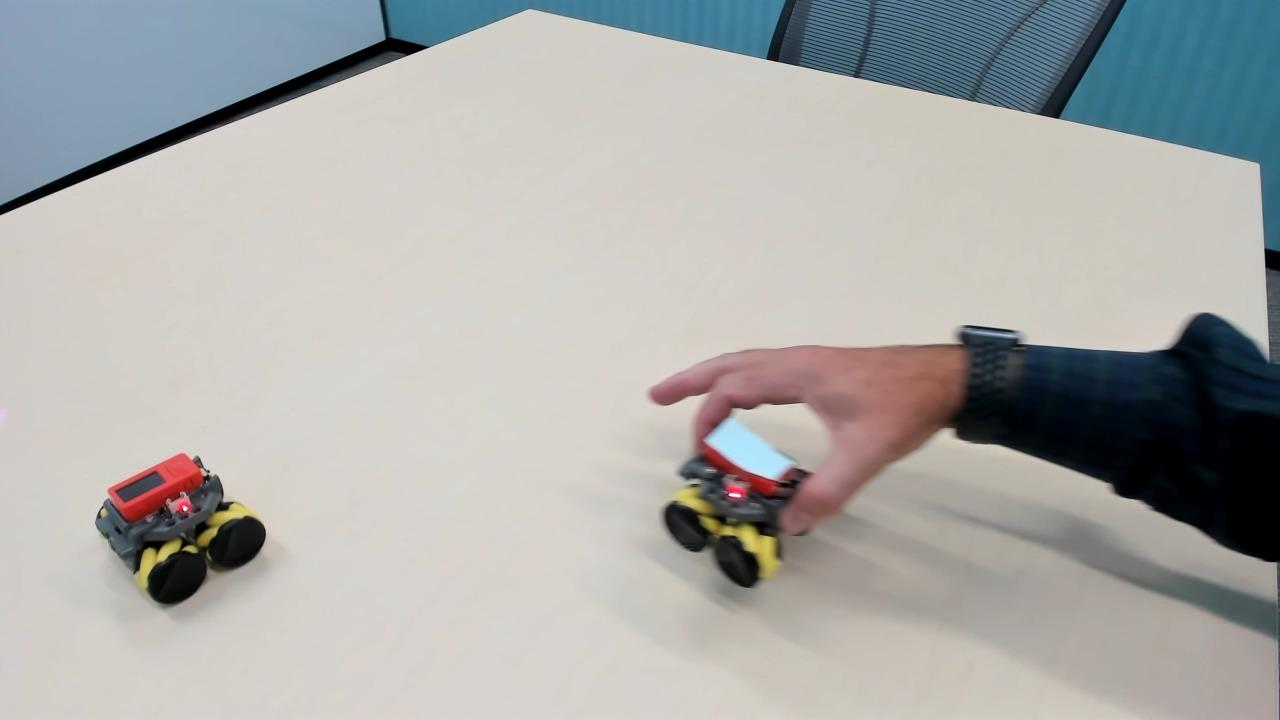B-Robot: (654, 414, 834, 599)
R-Robot: (86, 440, 271, 619)
